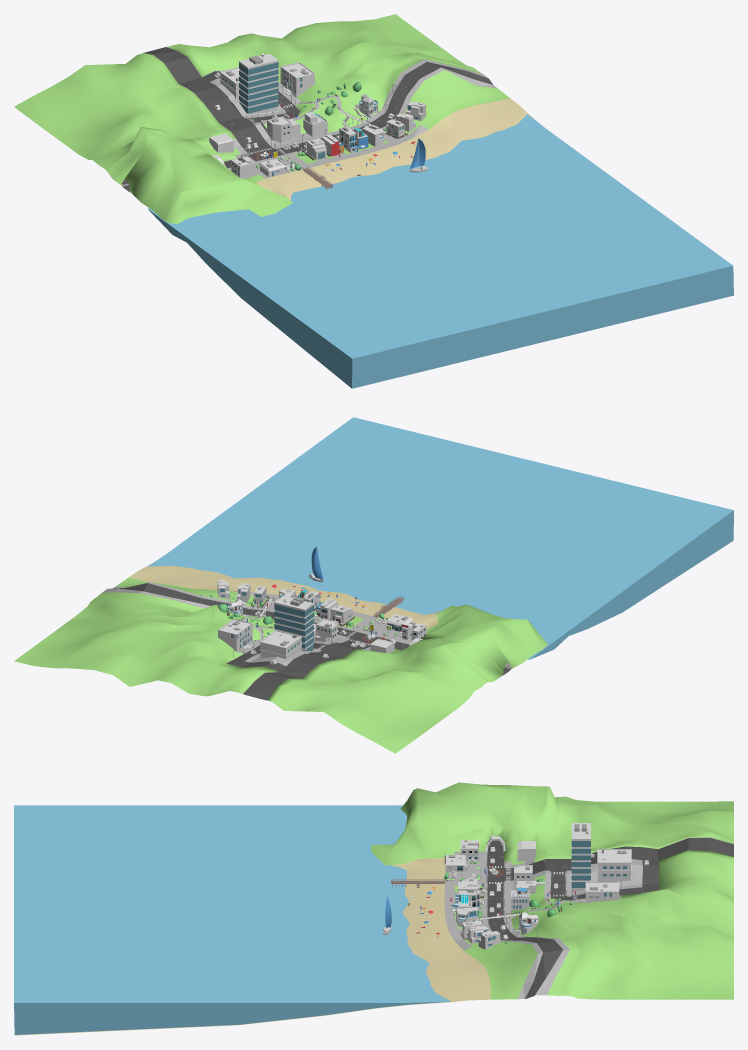
File: brightcity.fbx
3 renders of one model, top to bottom at view 1: azimuth 30°, elevation 25°; view 2: azimuth 150°, elevation 25°; view 3: azimuth 270°, elevation 25°, orthographic. The views are drawn at different scales.
Parts seen in each view (by area): view 1: Geometry503, Geometry565, Geometry562, Geometry563, Geometry564, Geometry539, Geometry540, Geometry538; view 2: Geometry503, Geometry565, Geometry562, Geometry563, Geometry564, Geometry539, Geometry538, Geometry8, Geometry540; view 3: Geometry503, Geometry565, Geometry562, Geometry563, Geometry564, Geometry539, Geometry8, Geometry540, Geometry538, Geometry533.
Part boxes in pixels (bbox=[...]): Geometry503: bbox=[148, 114, 733, 388]; Geometry565: bbox=[14, 14, 509, 223]; Geometry562: bbox=[256, 98, 538, 200]; Geometry563: bbox=[122, 47, 493, 192]; Geometry564: bbox=[122, 47, 496, 186]; Geometry539: bbox=[239, 62, 278, 113]; Geometry540: bbox=[239, 53, 278, 113]; Geometry538: bbox=[280, 62, 314, 97]; Geometry503: bbox=[148, 417, 733, 659]; Geometry565: bbox=[14, 577, 547, 753]; Geometry562: bbox=[129, 561, 440, 629]; Geometry563: bbox=[120, 583, 510, 700]; Geometry564: bbox=[102, 582, 511, 693]; Geometry539: bbox=[274, 604, 313, 650]; Geometry538: bbox=[218, 618, 252, 651]; Geometry8: bbox=[259, 630, 302, 655]; Geometry540: bbox=[274, 595, 313, 649]; Geometry503: bbox=[14, 805, 450, 1034]; Geometry565: bbox=[371, 782, 733, 999]; Geometry562: bbox=[14, 857, 490, 1035]; Geometry563: bbox=[487, 838, 733, 998]; Geometry564: bbox=[444, 837, 733, 999]; Geometry539: bbox=[571, 841, 590, 887]; Geometry8: bbox=[597, 849, 631, 870]; Geometry540: bbox=[571, 823, 590, 892]; Geometry538: bbox=[585, 882, 619, 903]; Geometry533: bbox=[468, 926, 500, 949].
Bounding box in the file's own units: 20348 × 4805 × 31249.
